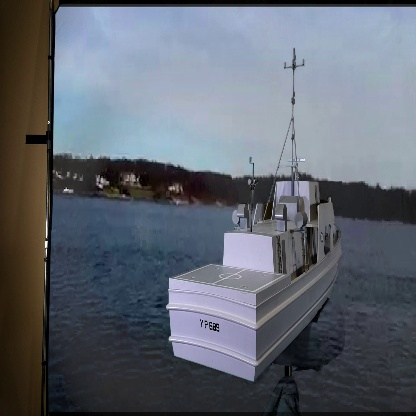YP689: (161, 50, 351, 380)
